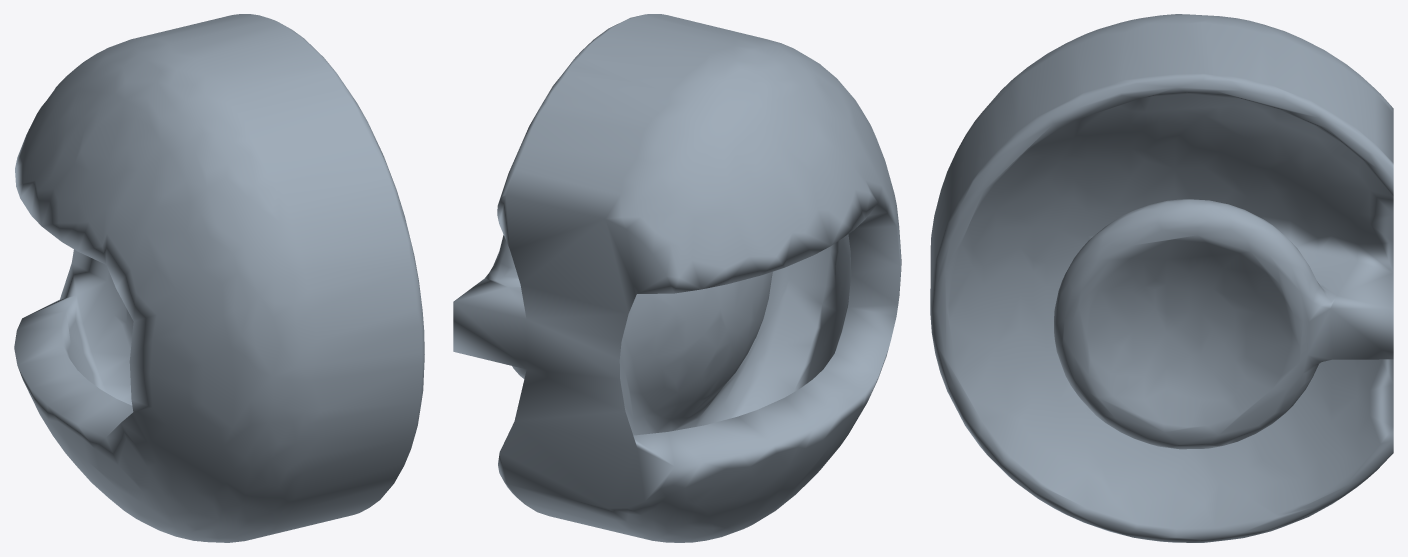
3 views of the same model, side by side, from view 1: azimuth 30°, elevation 25°; view 2: azimuth 150°, elevation 25°; view 3: azimuth 270°, elevation 25° (orthographic).
Size of the model in its own units: 5.56 by 8.46 by 7.55.
